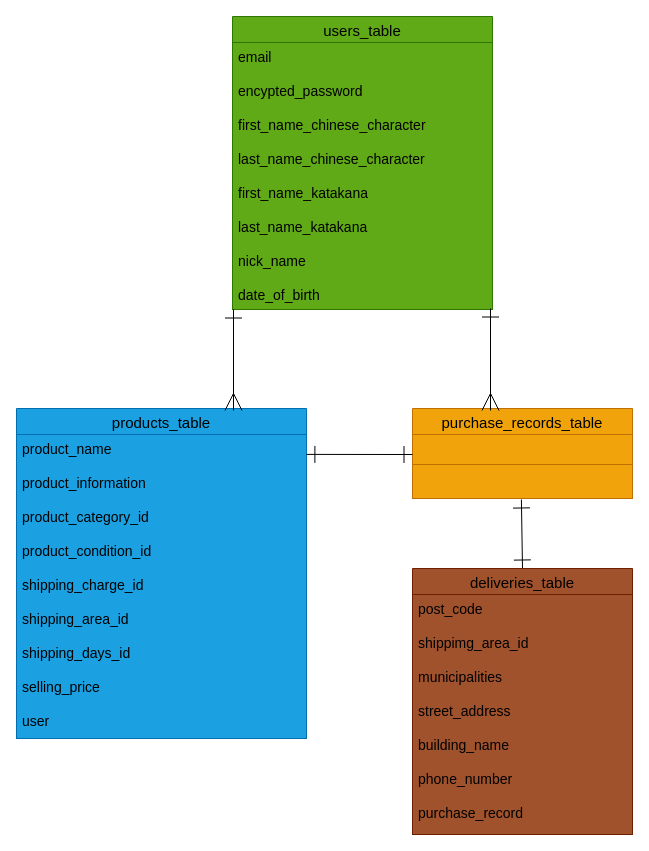
Image size: 649x851. Some labels were removed from this diagram. The shapes that lost their labels are listed below. From the top down, each one's centre as x and y in pixels, then its label:
the point at 522,449: user
the point at 522,481: product
